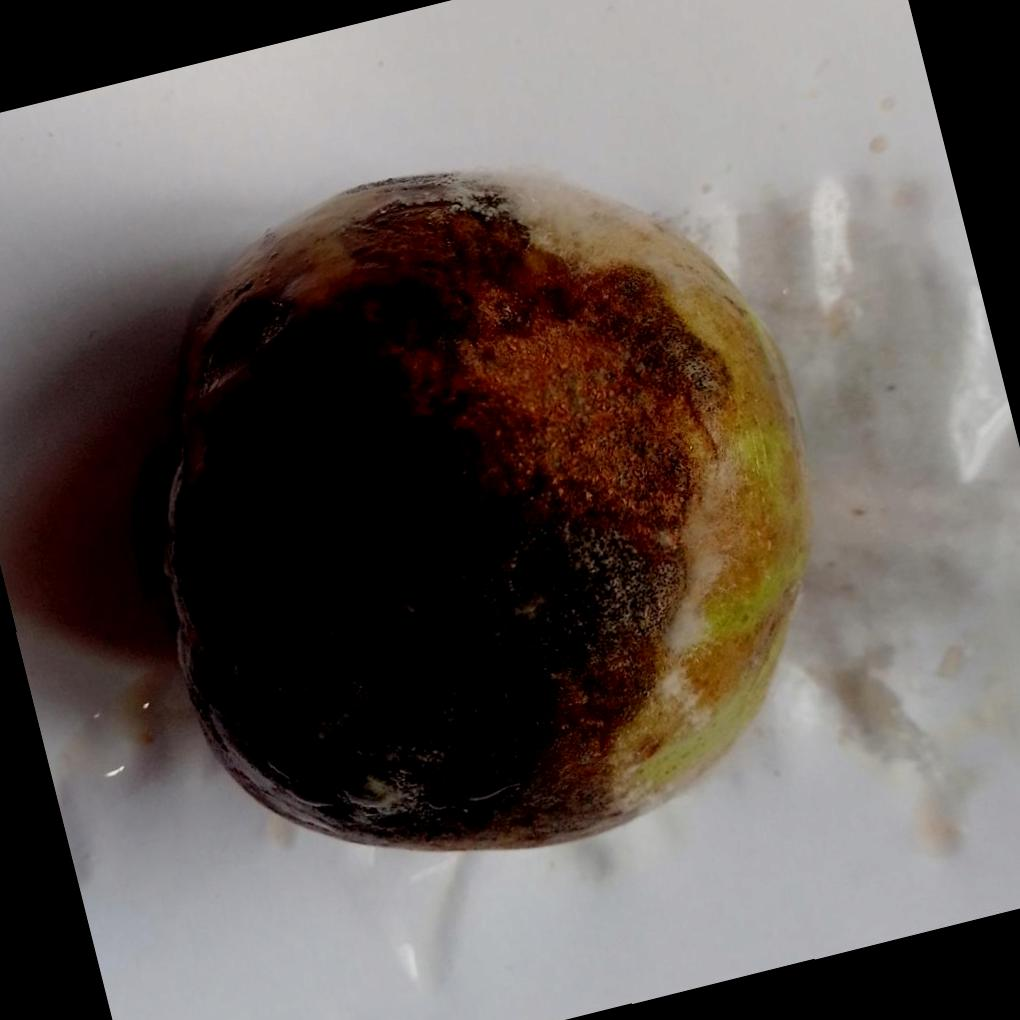FreshOrange: (135, 167, 811, 852)
